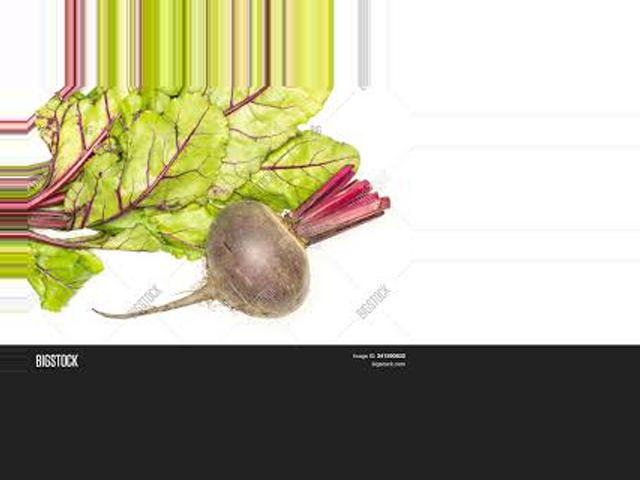beet: (92, 164, 390, 319)
